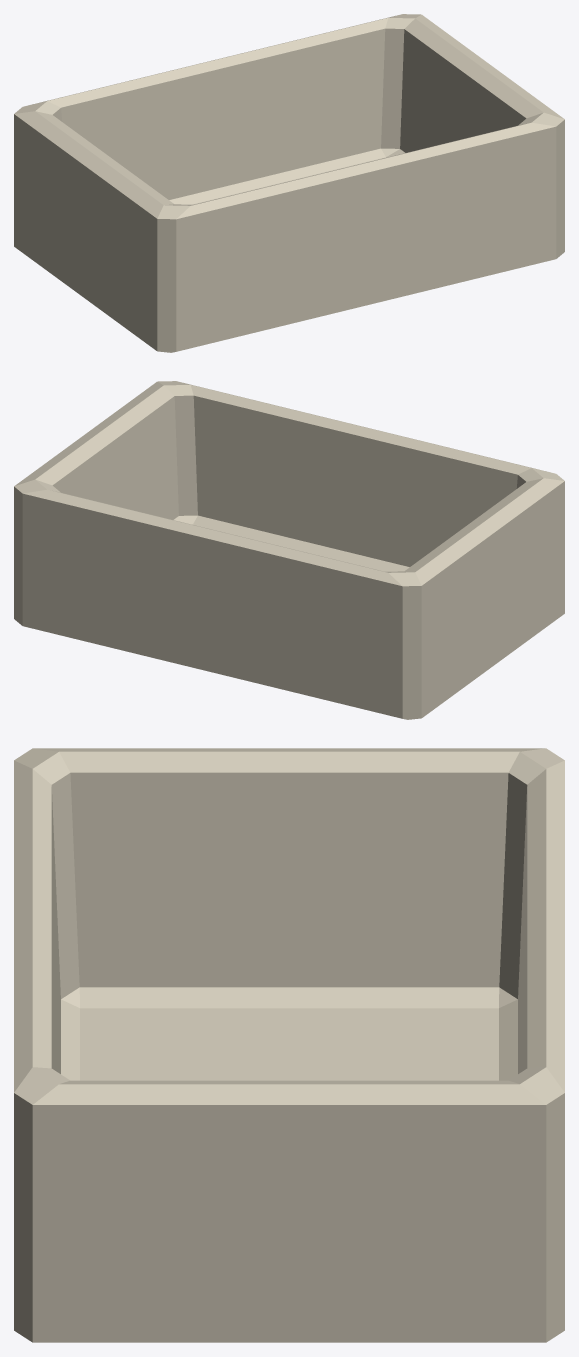
Rendered from BathtubTubV2.fbx.
3 views of the same model, one above another, from view 1: azimuth 30°, elevation 25°; view 2: azimuth 150°, elevation 25°; view 3: azimuth 270°, elevation 25° (orthographic). The views are drawn at different scales.
Parts seen in each view (by area): view 1: Tub; view 2: Tub; view 3: Tub.
Boxes of the visible parts, x1,y1,x2,y2 form: Tub: (14, 14, 564, 352); Tub: (14, 381, 564, 719); Tub: (14, 748, 564, 1342).
Size of the model in its own units: 1583 by 2425 by 809.
